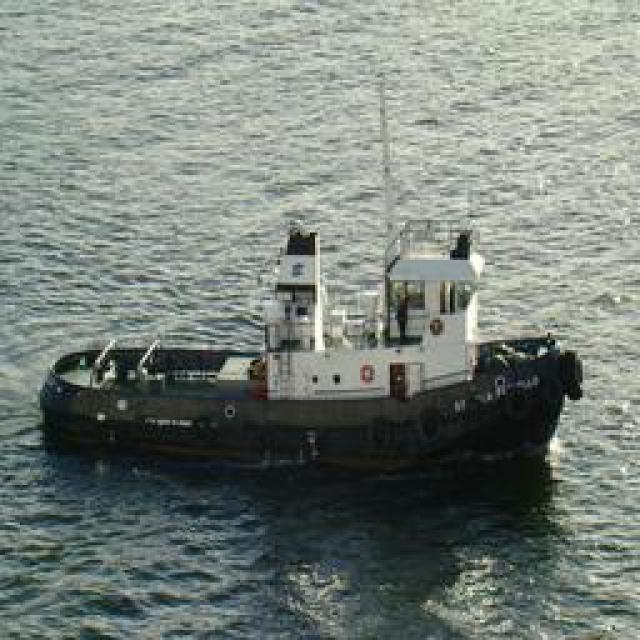Ship: (41, 76, 587, 487)
